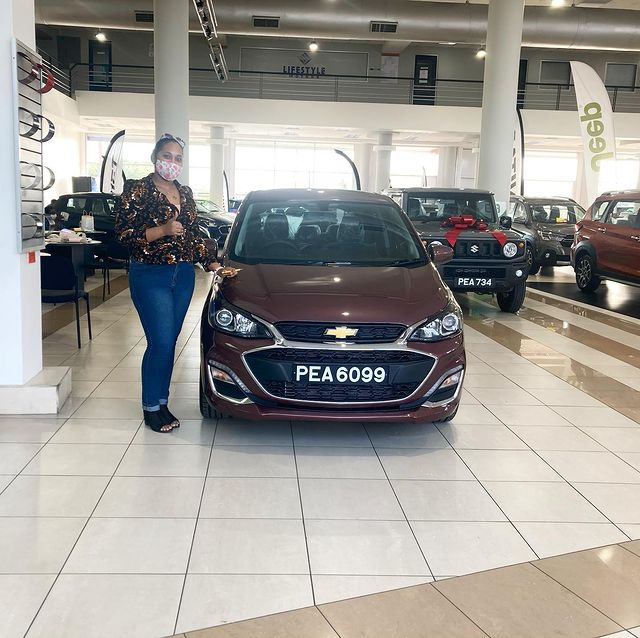License-Plate: (292, 363, 388, 382), (453, 277, 494, 285)
